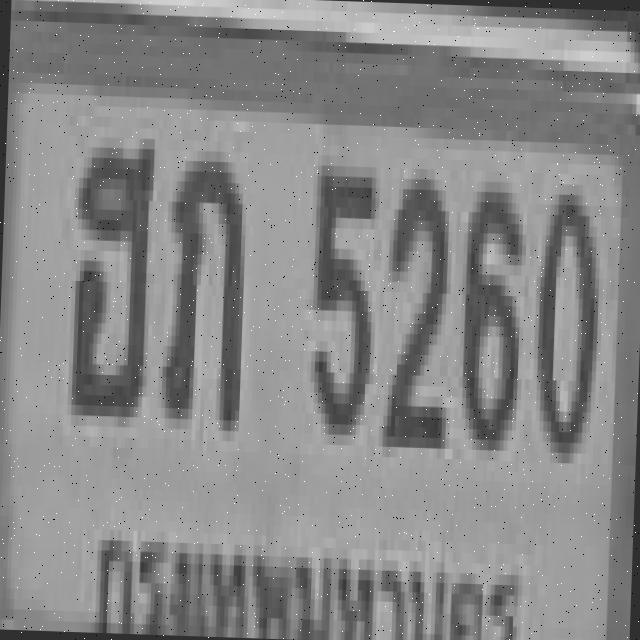0: (530, 183, 602, 464)
2: (378, 168, 456, 458)
41PhorSamPhao: (156, 144, 250, 438)
5: (304, 154, 378, 438)
53HorNokHook: (66, 136, 156, 425)
6: (456, 170, 527, 457)
